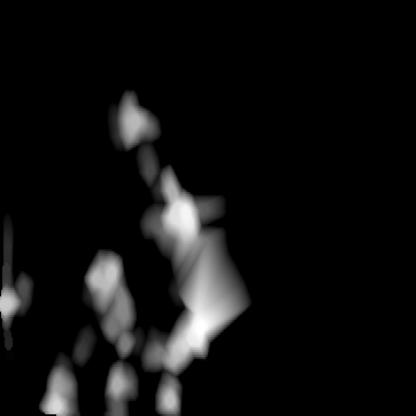fingers: (114, 92, 157, 146)
palm: (0, 278, 80, 413), (34, 372, 184, 414)
thumb: (84, 165, 233, 369)
